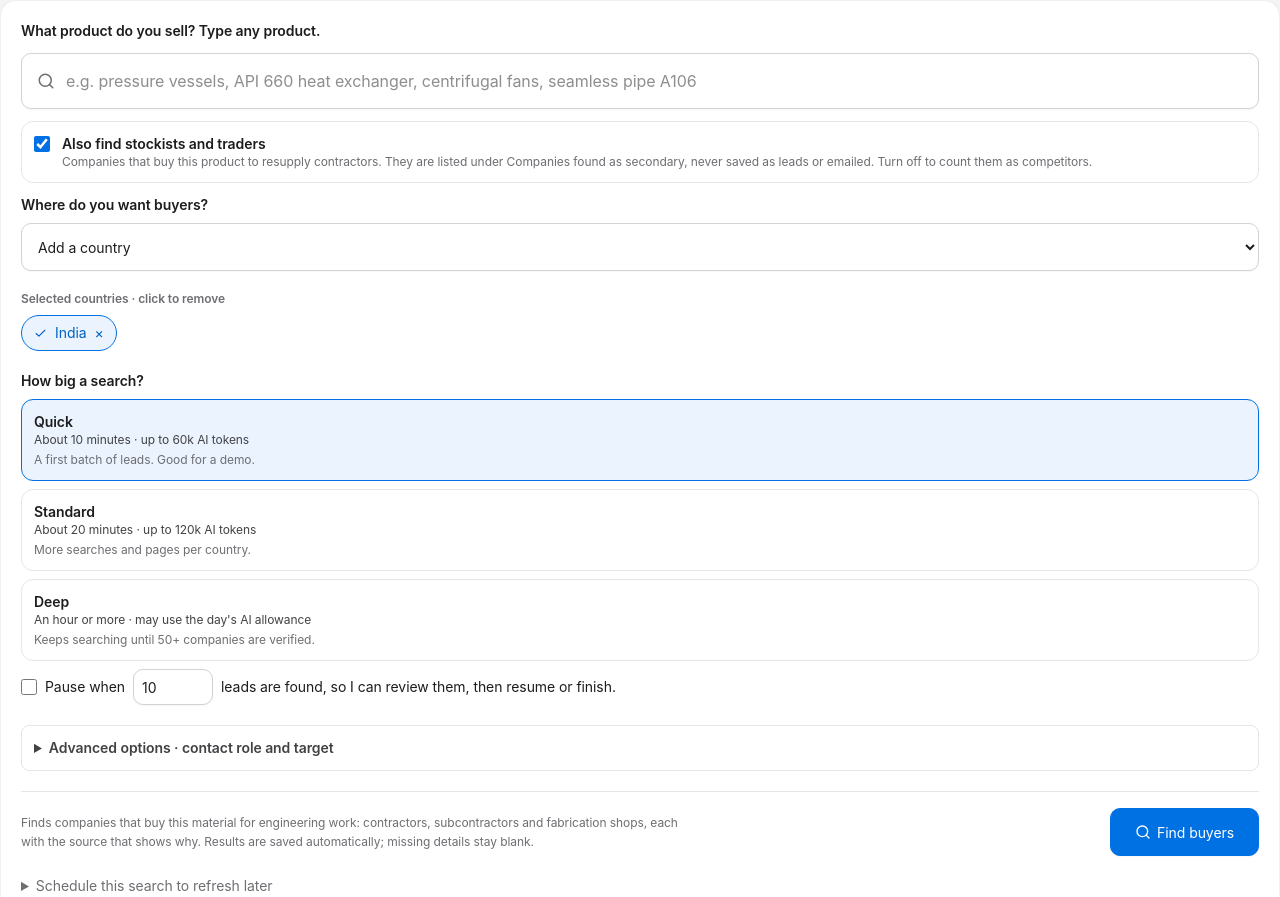
Test: bounded material research form › rejects invalid targets before submitting a paid research request
The image size is (1280, 897).
Replace the text in the search field labelled "What product do you sell? Type any product." with "cables" at coordinates (640, 81), box [21,53,1259,109]
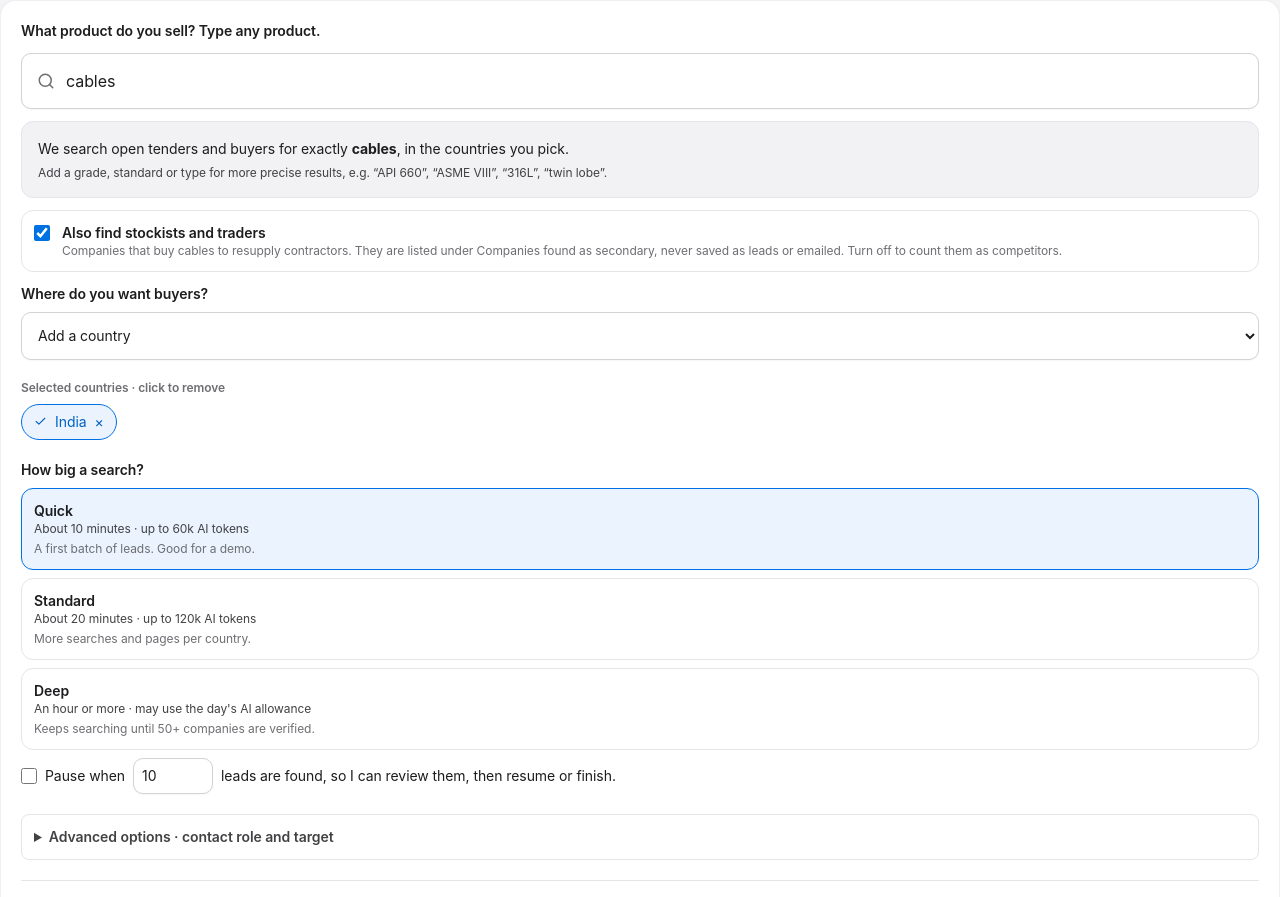
Click the radio button labelled "Deep" at coordinates (52, 690), box [21,668,1259,750]
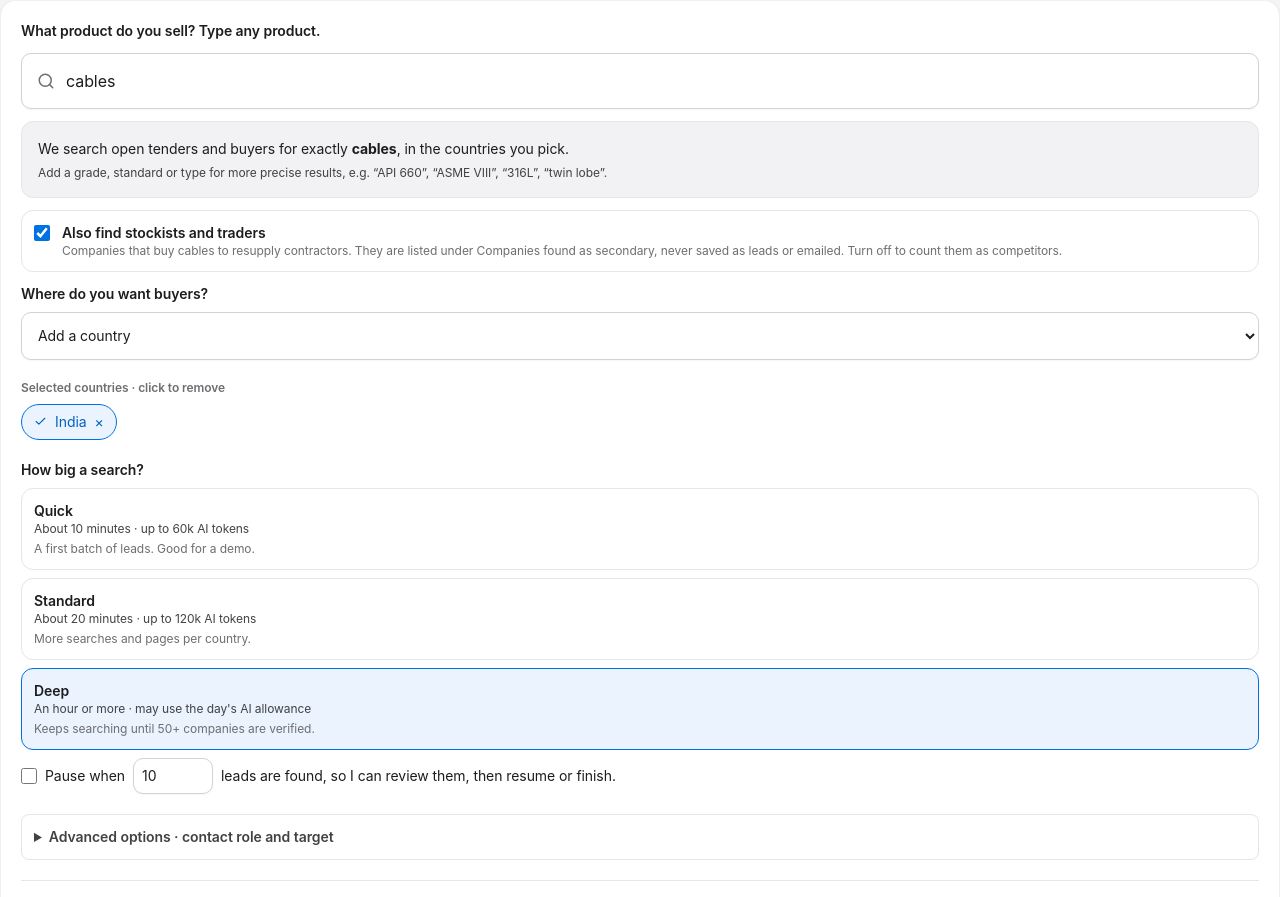
Replace the text in the number field named "Target companies" with "49" at coordinates (640, 837), box [21,814,1259,860]
(page scrolled)
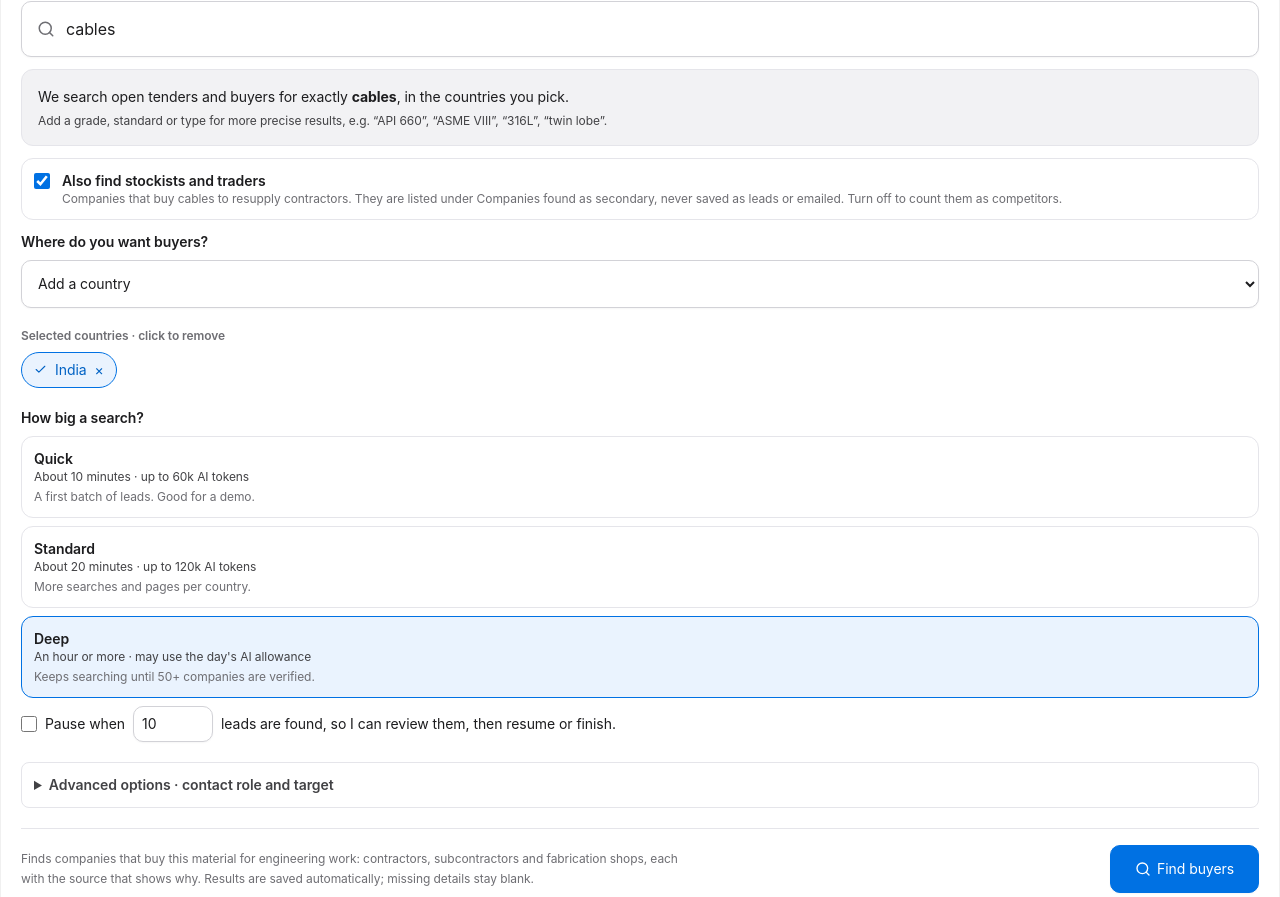
Submit the form named "Search for opportunities"
(page scrolled)
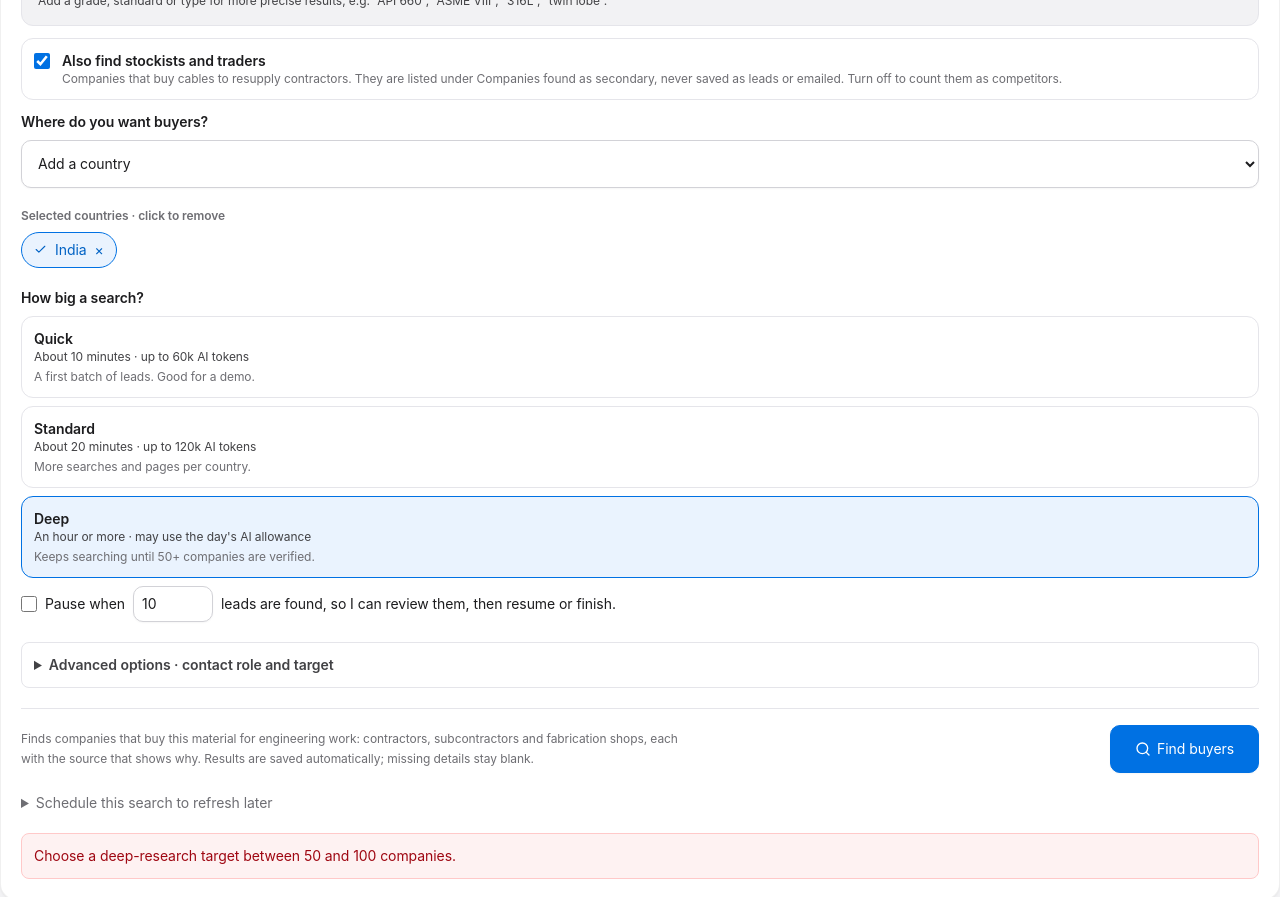
Expected: the message shows "between 50 and 100", [34,847,456,864]
